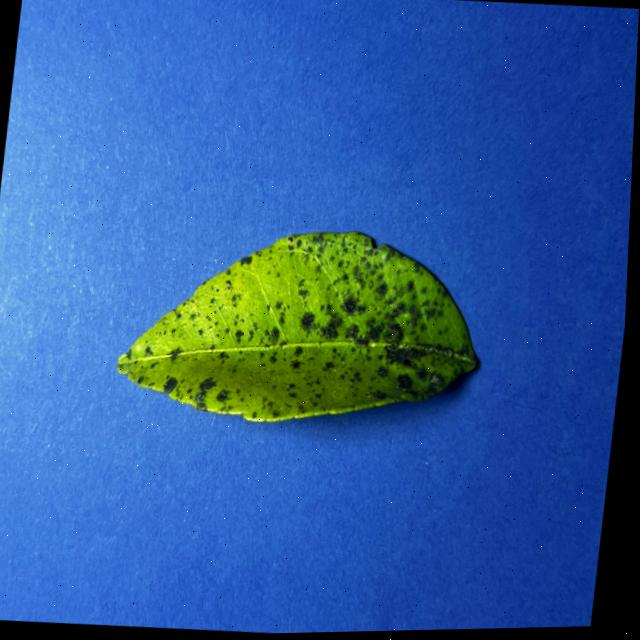sooty_mold: (118, 231, 465, 420)
